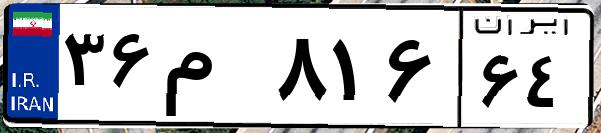1: (330, 28, 385, 110)
3: (57, 26, 110, 100)
4: (525, 38, 570, 115)
6: (385, 28, 445, 110), (475, 38, 525, 113), (110, 28, 158, 98)
8: (270, 28, 330, 110)
م: (158, 20, 270, 120)
